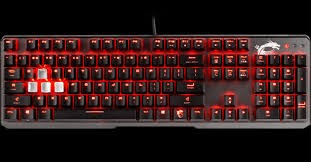keyboard: (5, 33, 311, 129)
